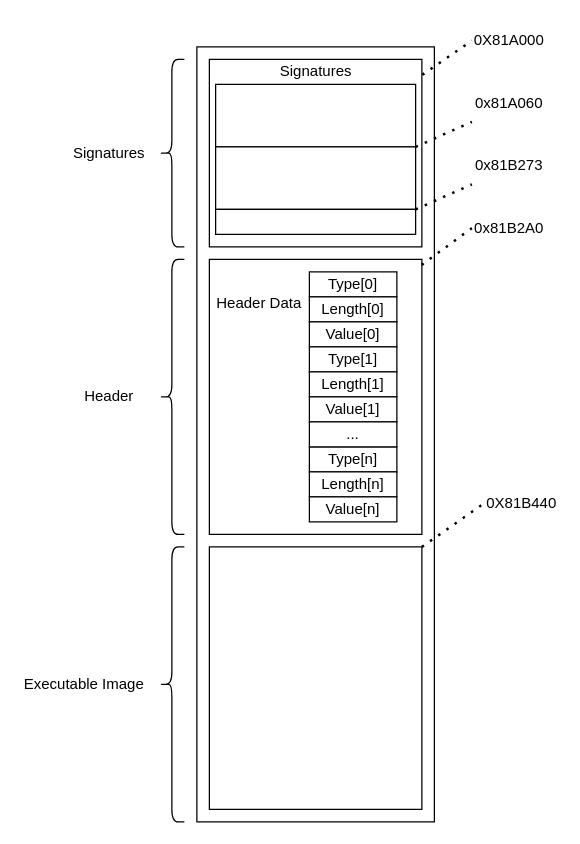
Image size: 580x844. Some labels were removed from this diagram. The shapes that lost their labels are listed below. From the top down, each one's centre as x and y in pixels, then its label:
At [315,115]: "Raw, binary ECDSA signature of the header".
At [315,177]: "Raw, binary ML-DSA-87 signature of the header".
At [315,221]: "Padding".
At [315,677]: "Code".
